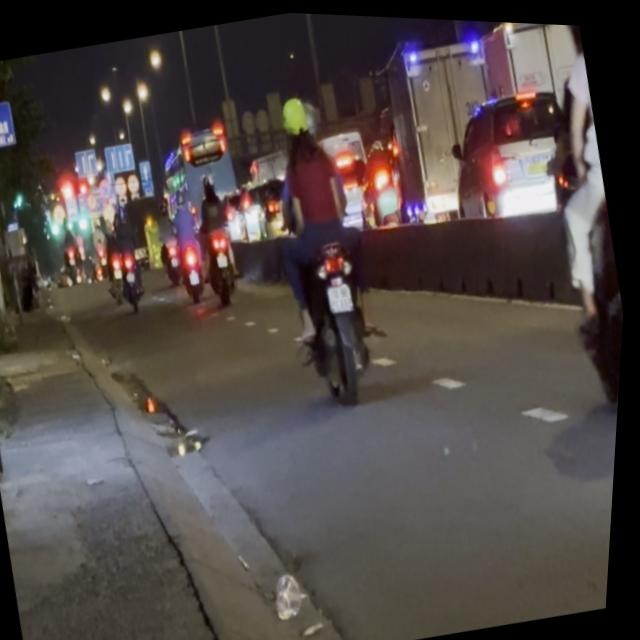helmet: (278, 88, 320, 147)
licenseplate: (503, 18, 640, 422), (246, 79, 406, 408)
nohelmet: (329, 278, 359, 309)
